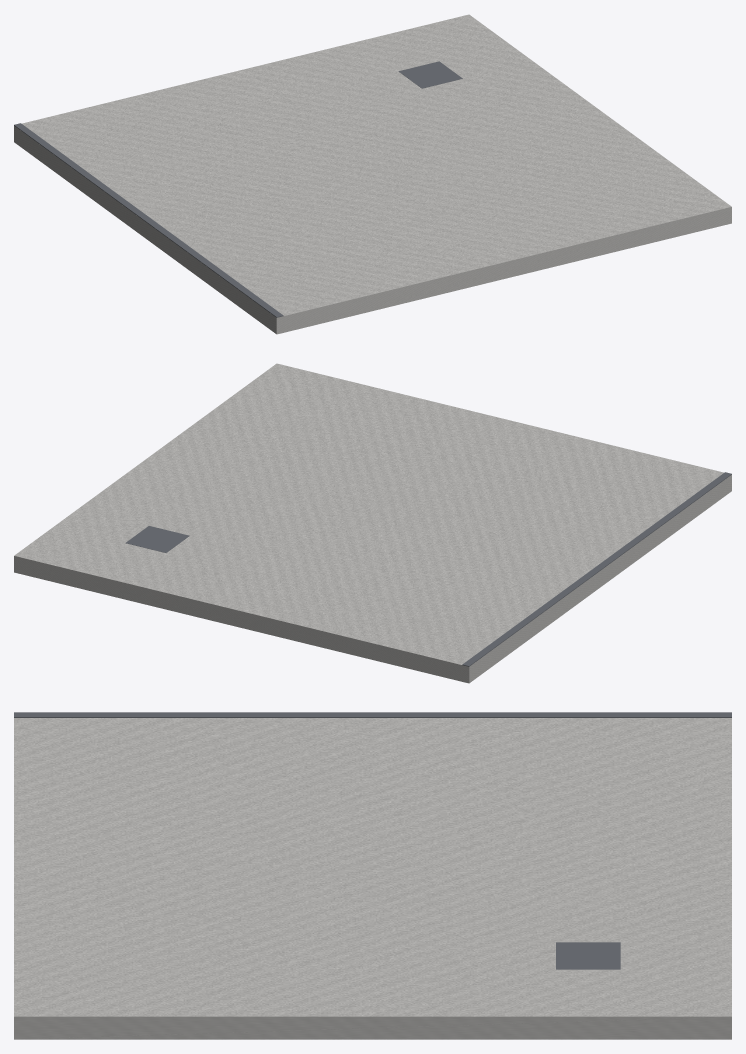
Rendered from shipyard-and-dry-dock-shipyard-and-dry-dock-yard-apron-dcf38f0e__37915.glb.
The picture shows the model from 3 angles, top to bottom: view 1: azimuth 30°, elevation 25°; view 2: azimuth 150°, elevation 25°; view 3: azimuth 270°, elevation 25°; orthographic projection. The views are drawn at different scales.
Parts seen in each view (by area): view 1: shipyard-and-dry-dock-yard-apron-slab; view 2: shipyard-and-dry-dock-yard-apron-slab; view 3: shipyard-and-dry-dock-yard-apron-slab.
Part boxes in pixels (left/top/right/bottom): shipyard-and-dry-dock-yard-apron-slab: left=14, top=14, right=731, bottom=334; shipyard-and-dry-dock-yard-apron-slab: left=14, top=363, right=731, bottom=683; shipyard-and-dry-dock-yard-apron-slab: left=14, top=712, right=731, bottom=1039.
Size of the model in its own units: 4 by 0.146 by 4.
2 materials, 1 textured.
